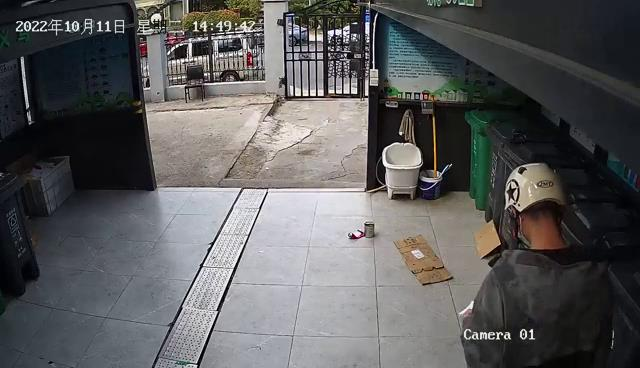lvzhipin: (362, 218, 377, 240), (346, 227, 366, 241)
person: (457, 160, 623, 368)
zhizhipin: (391, 231, 458, 290), (470, 216, 506, 263)
